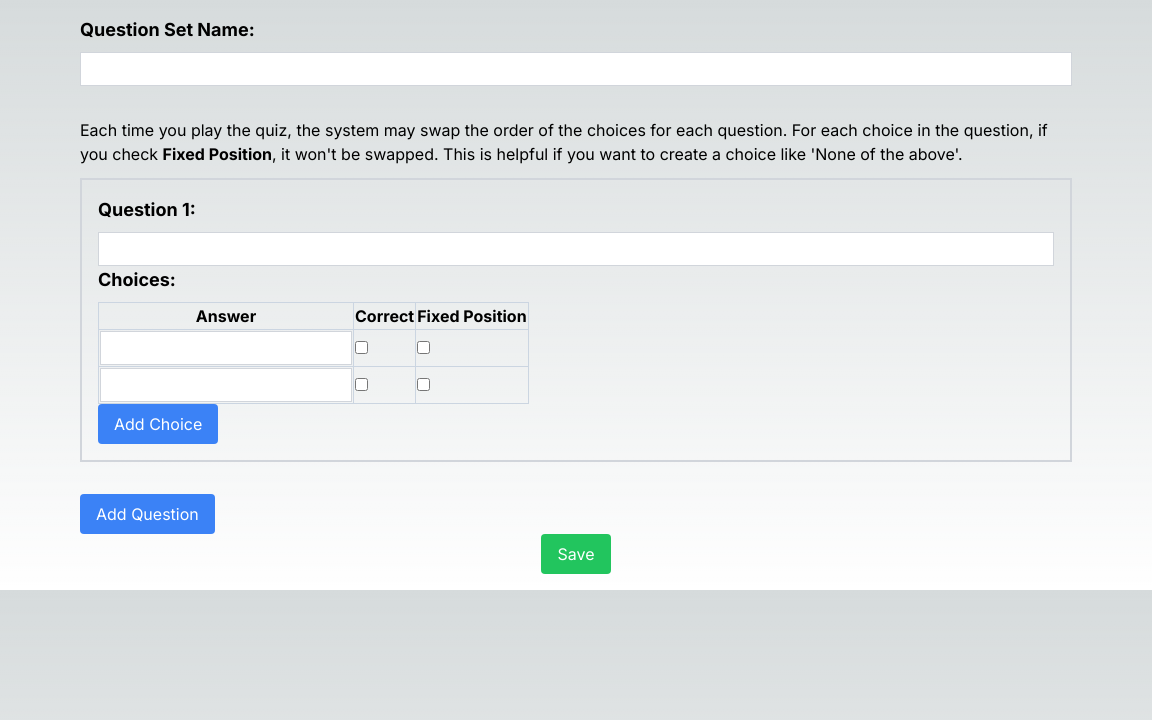
Scenario: QuestionSetEditor › should reject saving question set when empty answer
This screenshot has width=1152, height=720.
Type "Dummy name" into the field labelled "Question Set Name:" at coordinates (576, 69), box [80, 52, 1072, 86]
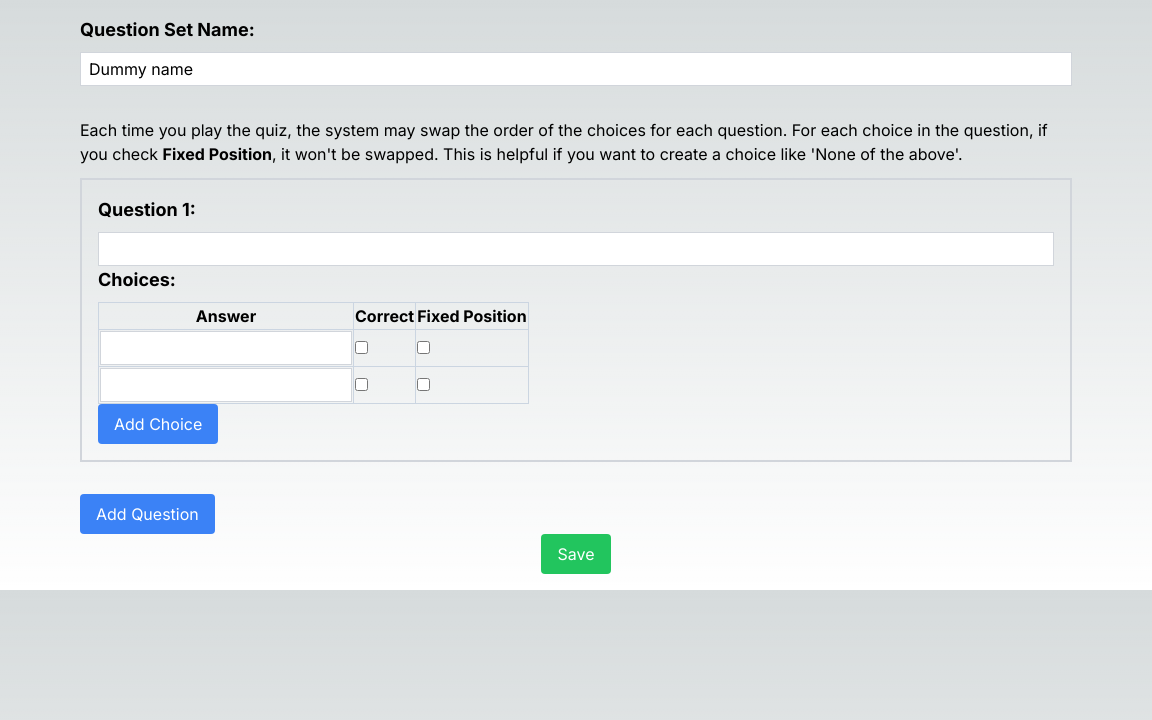
Type "1 + 1 = ?" into the field labelled "Question 1:" at coordinates (576, 249), box [98, 232, 1054, 266]
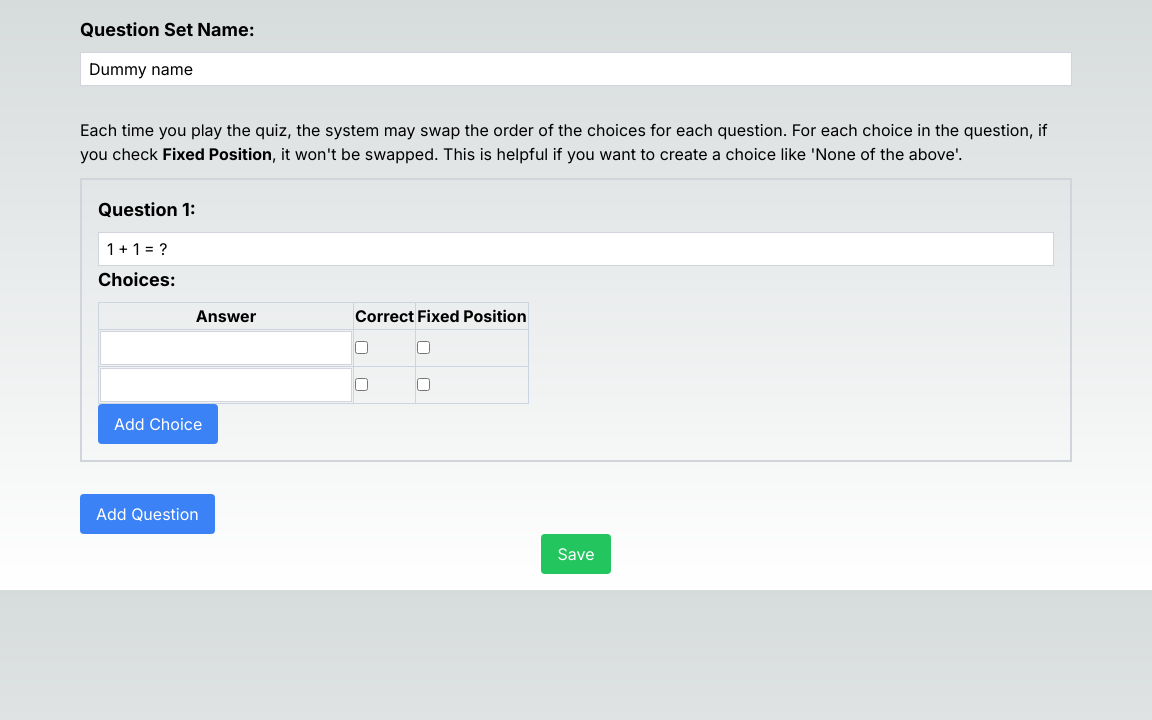
Type "2" into the field named "answer of question 1 choice 1" at coordinates (226, 348), box [100, 331, 352, 365]
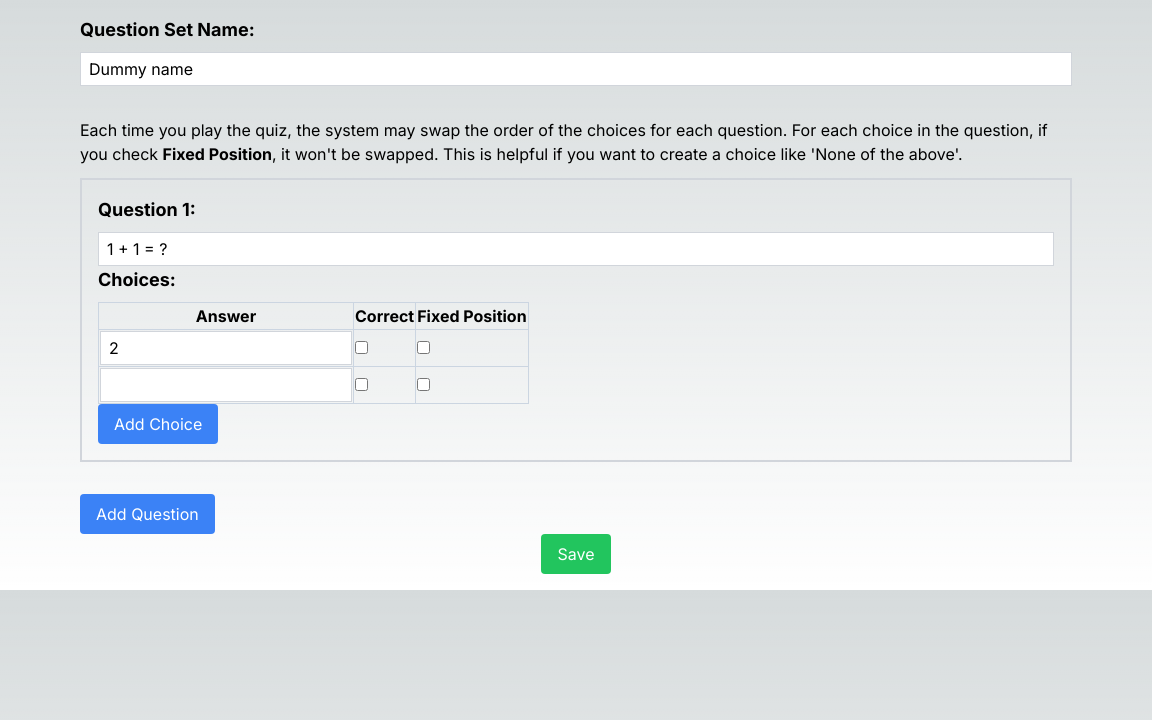
Click the checkbox named "question 1 choice 1 is correct answer" at coordinates (362, 348), box [355, 341, 368, 354]
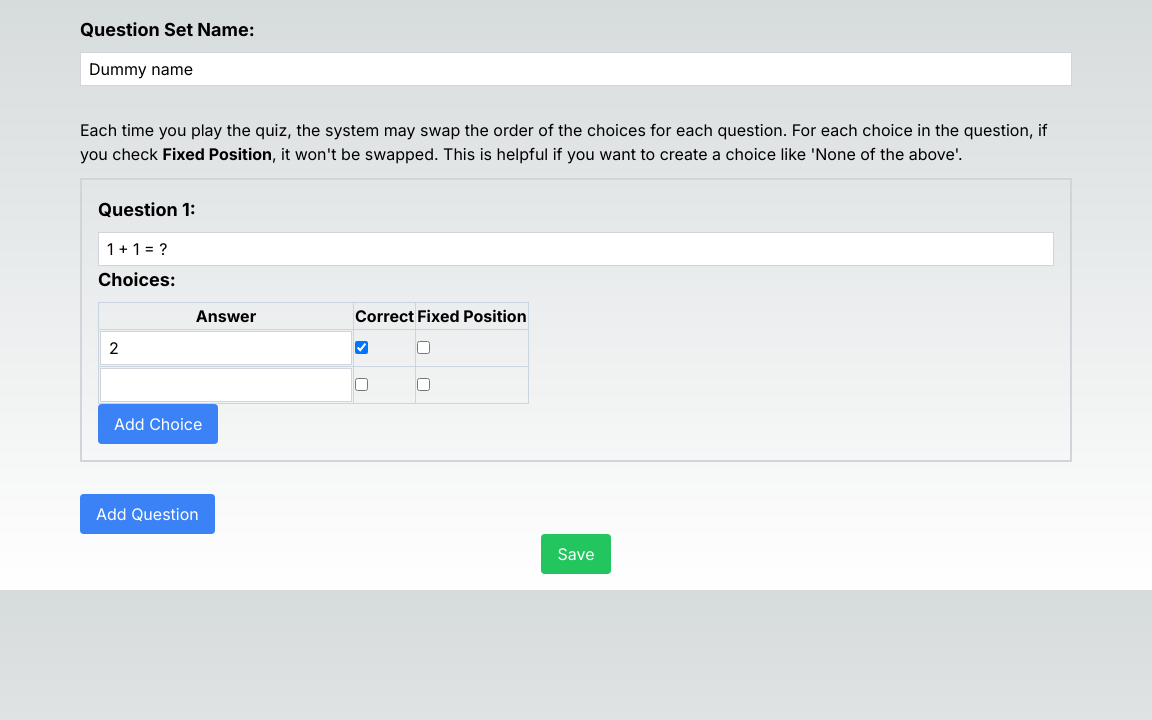
Click the button "Save" at coordinates (576, 554), box [542, 534, 610, 574]
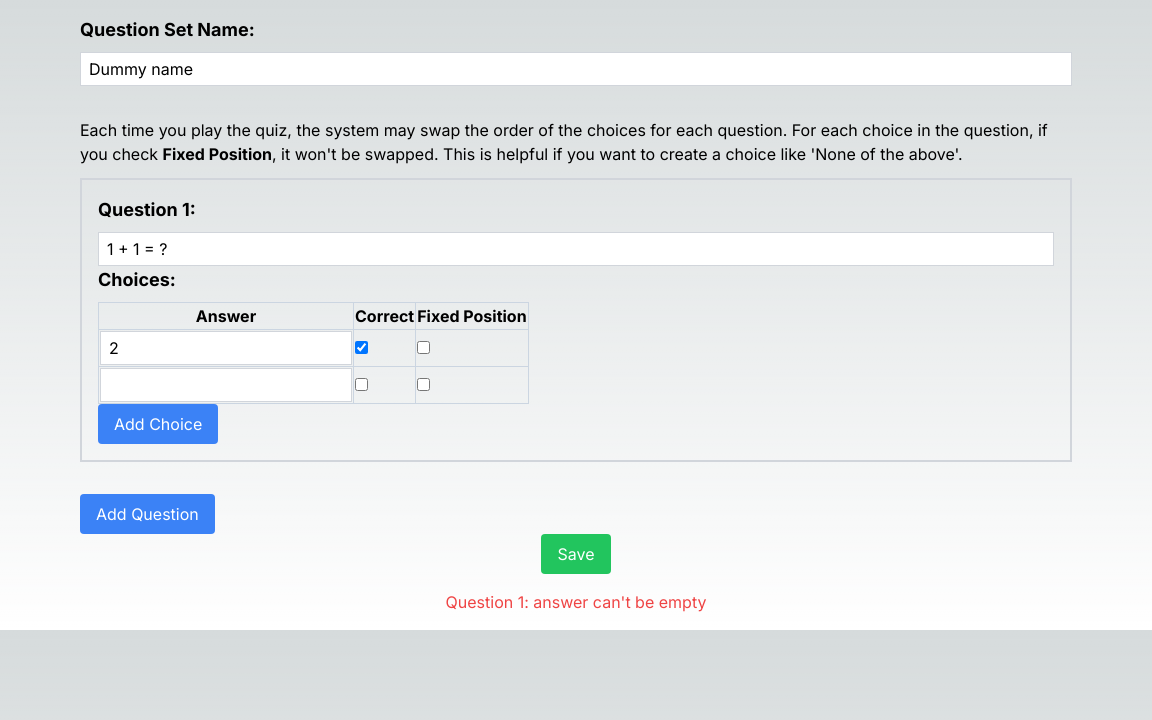
Now the text named "error prompt" reads "Question 1: answer can't be empty", box [446, 592, 706, 612]
